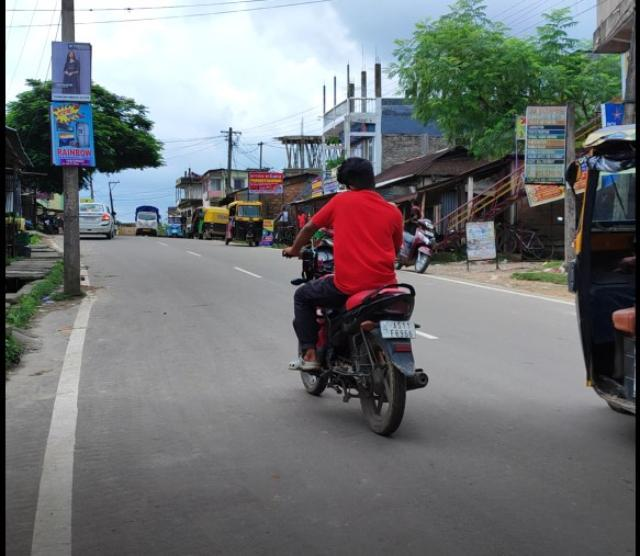licensePlate: (379, 322, 420, 341)
motorcycle: (286, 152, 432, 442)
withoutHelmet: (335, 155, 384, 196)
